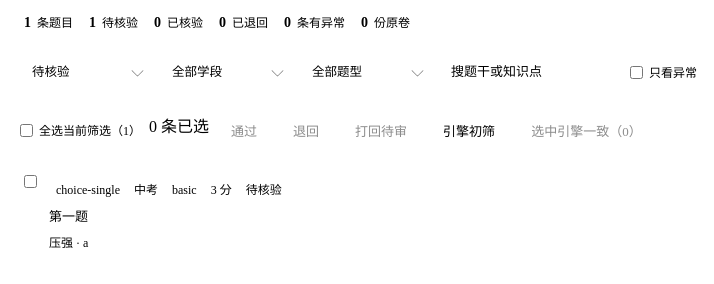
Test: AdminContentTab › reports ids the host no longer has instead of swallowing them
Expected: the text "第一题" is shown, [49, 209, 88, 224]
Click the checkbox labelled "全选当前筛选（1）".
click(26, 130)  # box [20, 124, 33, 136]
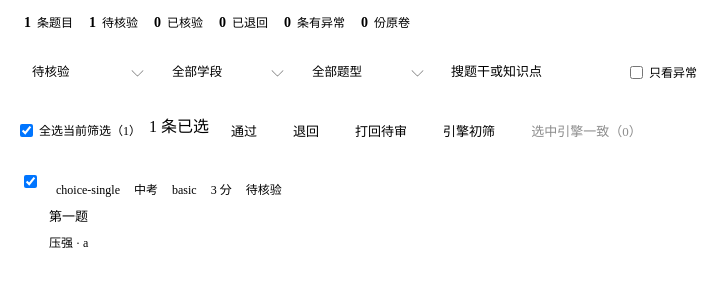
Click the button "退回".
click(306, 130)  # box [279, 113, 333, 147]
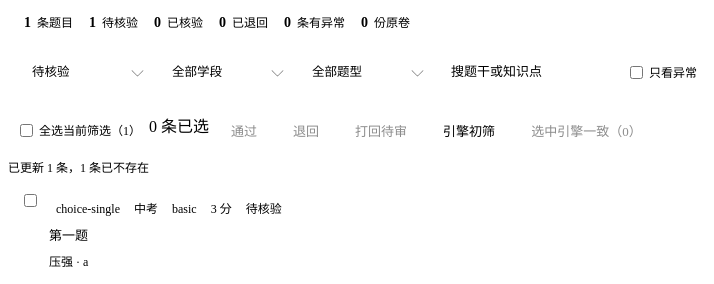
Expected: the text "已更新 1 条，1 条已不存在" is shown, [8, 161, 149, 175]
